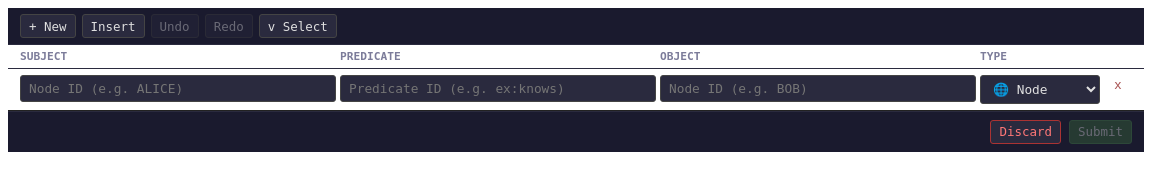
Fix 4: --flag changes type metadata › unknown flag shows inline warning
Type "--foobar " into the field with placeholder "Node ID (e.g. BOB)".
click(818, 88); type("--foobar ")  # box [660,75,976,102]
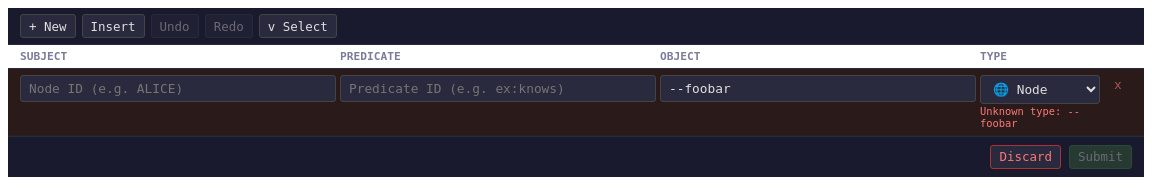
Expected: the text with class "type-warning" shows "foobar", [980,105,1080,129]
